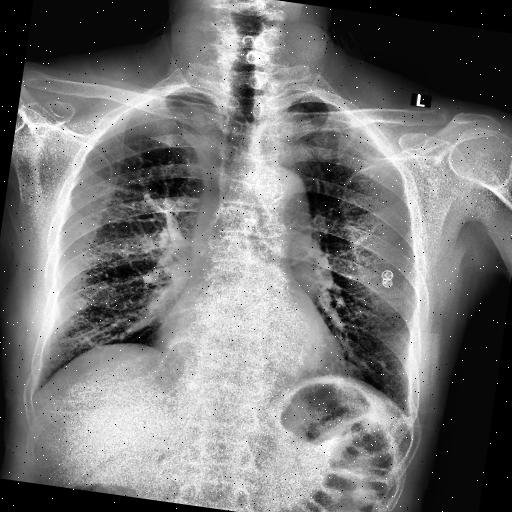0- Aortic enlargement: (232, 160, 324, 236), (238, 160, 316, 228), (232, 158, 316, 220)
13- Pulmonary fibrosis: (288, 212, 380, 282)
3- Cardiomegaly: (149, 316, 355, 394)
